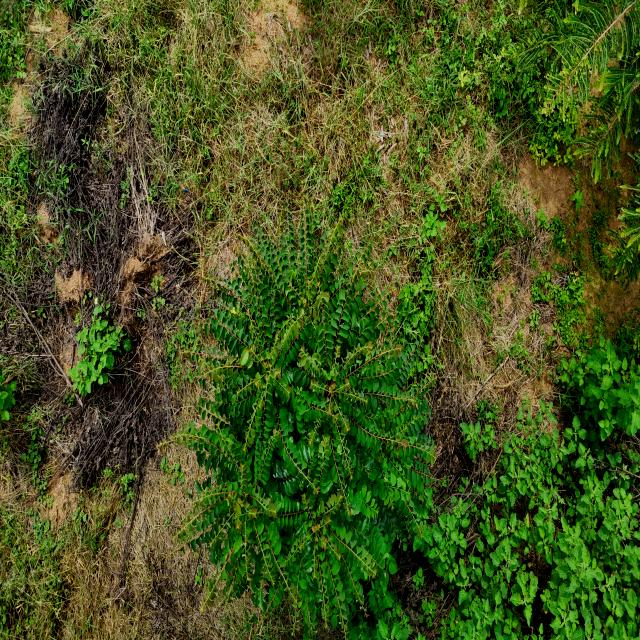notMangoTree: (172, 198, 440, 640), (453, 327, 640, 640), (524, 0, 640, 252), (69, 298, 131, 403), (0, 324, 19, 438)
